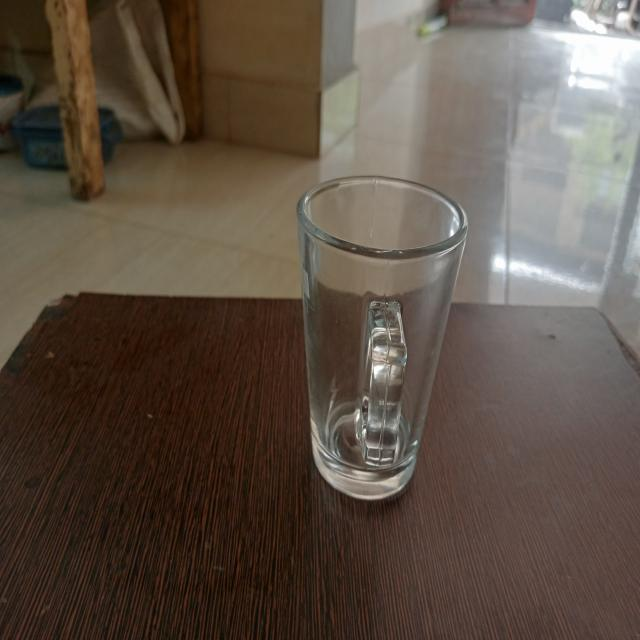glass-VX4N: (296, 175, 472, 517)
